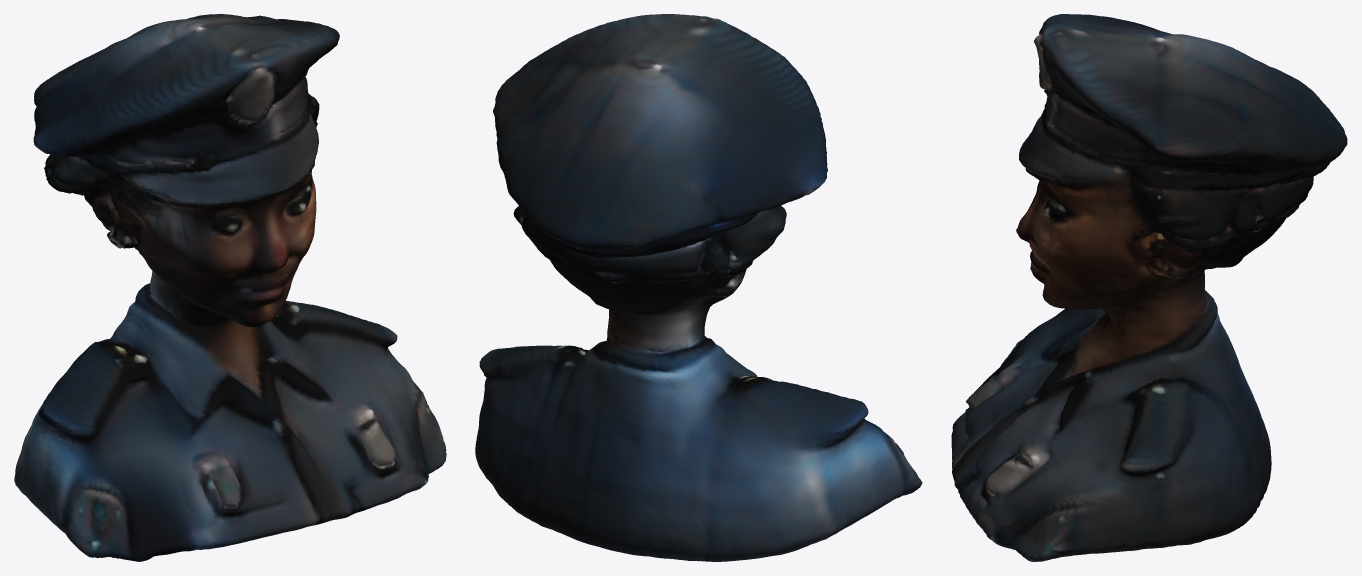
The model's file is reconstruction.glb.
3 renders of one model, left to right at view 1: azimuth 30°, elevation 25°; view 2: azimuth 150°, elevation 25°; view 3: azimuth 270°, elevation 25°, orthographic.
Parts seen in each view (by area): view 1: triposr; view 2: triposr; view 3: triposr.
Boxes of the visible parts, <box> form: triposr: <box>14,14,446,561</box>; triposr: <box>475,14,922,561</box>; triposr: <box>951,14,1347,561</box>.
Size of the model in its own units: 0.8657 by 0.9839 by 0.7676.
